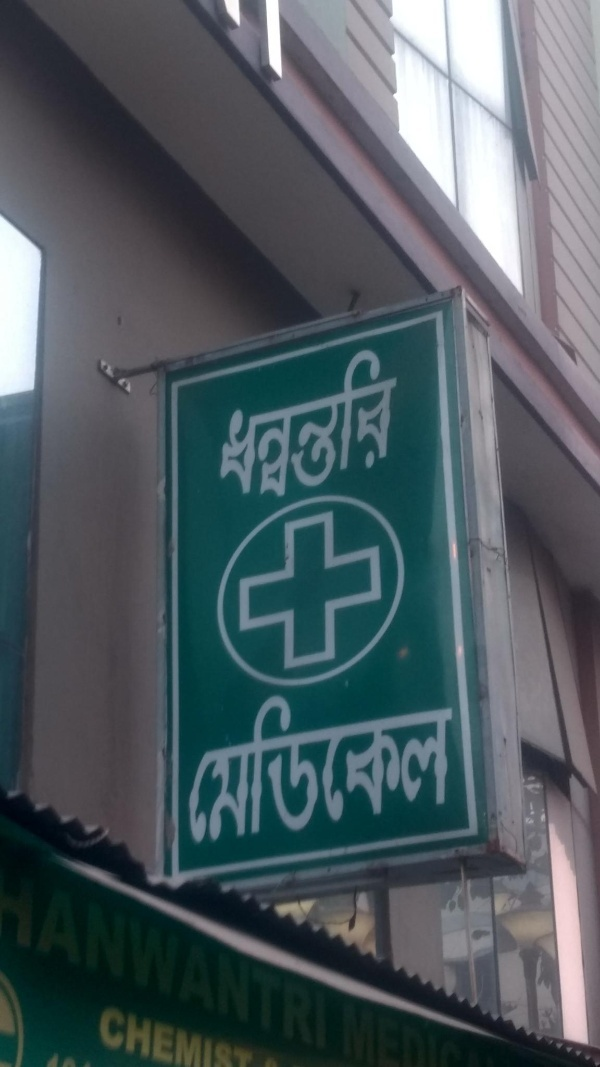text: (193, 653, 208, 855), (209, 653, 224, 855), (225, 653, 240, 855), (241, 653, 256, 855), (257, 653, 272, 855), (273, 653, 288, 855), (289, 653, 304, 855), (305, 653, 320, 855), (321, 653, 336, 855), (337, 653, 352, 855), (353, 653, 368, 855), (369, 653, 384, 855), (385, 653, 400, 855), (401, 653, 416, 855), (417, 653, 432, 855), (433, 653, 448, 855), (449, 653, 464, 855), (49, 874, 64, 1054), (65, 874, 80, 1054), (81, 874, 96, 1054), (97, 874, 112, 1054), (113, 874, 128, 1054), (129, 874, 144, 1054), (145, 874, 160, 1054), (161, 874, 176, 1054), (177, 874, 192, 1054), (193, 874, 208, 1054), (209, 874, 224, 1054), (225, 874, 240, 1054), (241, 874, 256, 1054), (257, 874, 272, 1054), (273, 874, 288, 1054), (289, 874, 304, 1054), (305, 874, 320, 1054), (225, 332, 240, 508), (241, 332, 256, 508), (257, 332, 272, 508), (273, 332, 288, 508), (289, 332, 304, 508), (305, 332, 320, 508), (321, 332, 336, 508), (337, 332, 352, 508), (353, 332, 368, 508), (369, 332, 384, 508), (385, 332, 400, 508), (401, 332, 416, 508), (179, 653, 192, 855), (321, 874, 332, 1054), (216, 332, 224, 508), (17, 860, 32, 948), (113, 1001, 128, 1067), (129, 1001, 144, 1067), (145, 1001, 160, 1067), (161, 1001, 176, 1067), (177, 1001, 192, 1067), (353, 1000, 368, 1066), (369, 1000, 384, 1066), (385, 1000, 400, 1066), (401, 1000, 416, 1066), (417, 1000, 432, 1066), (433, 1000, 448, 1066), (449, 1000, 464, 1066), (465, 1000, 480, 1066), (481, 1000, 496, 1066), (497, 1000, 512, 1066), (5, 860, 16, 948), (465, 653, 469, 855), (193, 1001, 205, 1067), (33, 860, 41, 948), (102, 1001, 112, 1067), (45, 874, 48, 1054), (513, 1000, 521, 1066), (345, 1000, 352, 1066), (417, 332, 419, 508)
